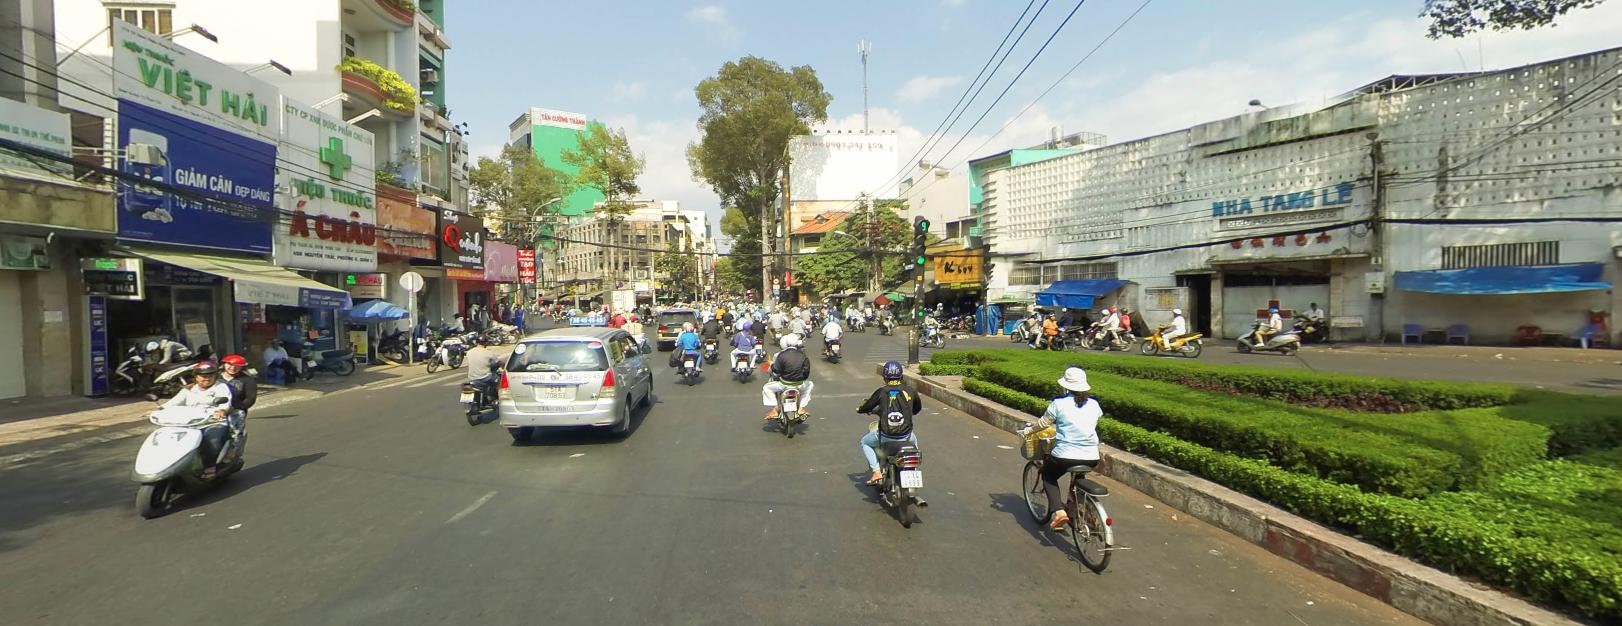Cam con lai: (772, 275, 779, 282)
